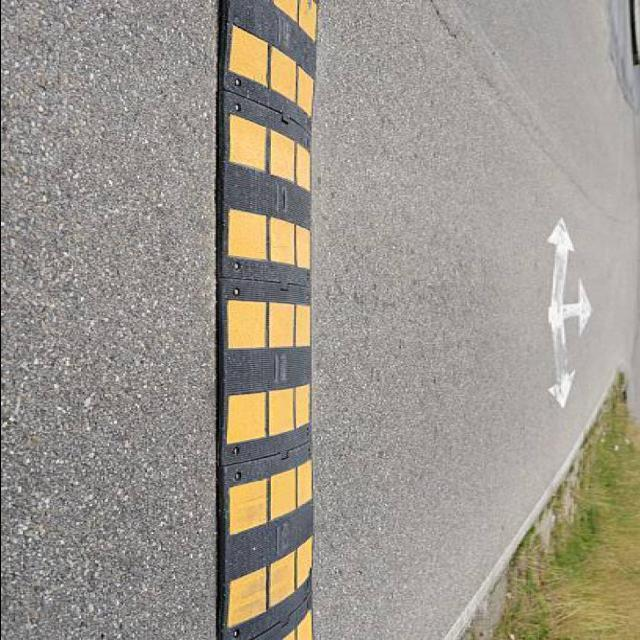Speed_Breaker: (203, 0, 326, 640), (220, 3, 318, 639)
